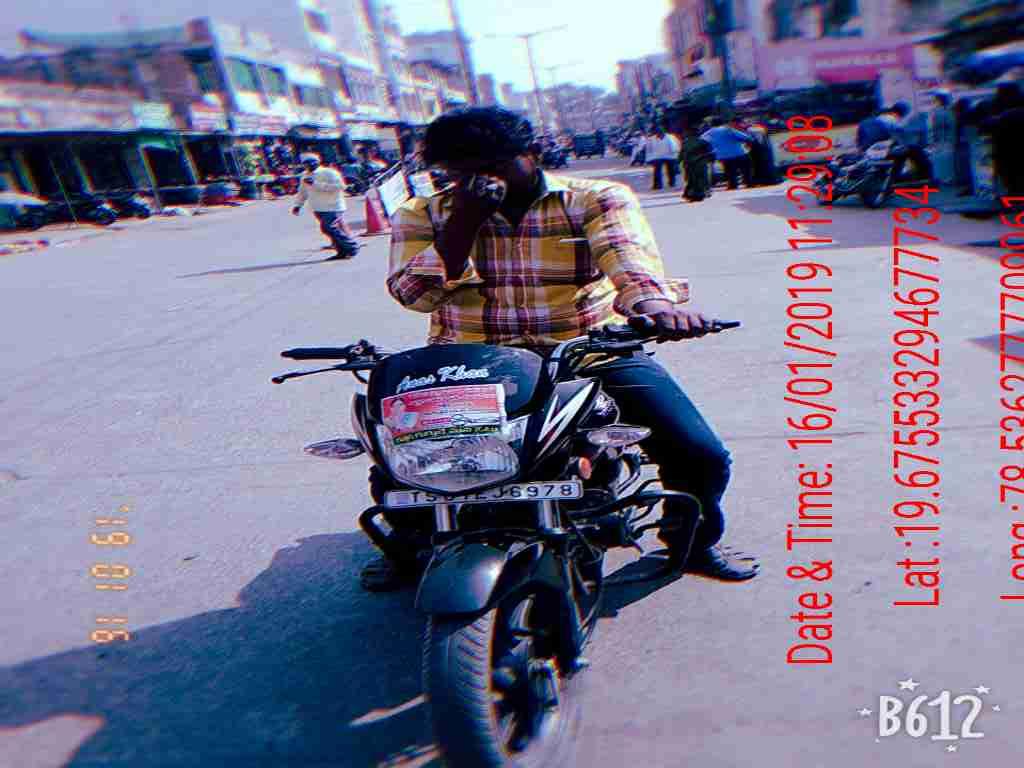plate: (373, 482, 590, 508)
